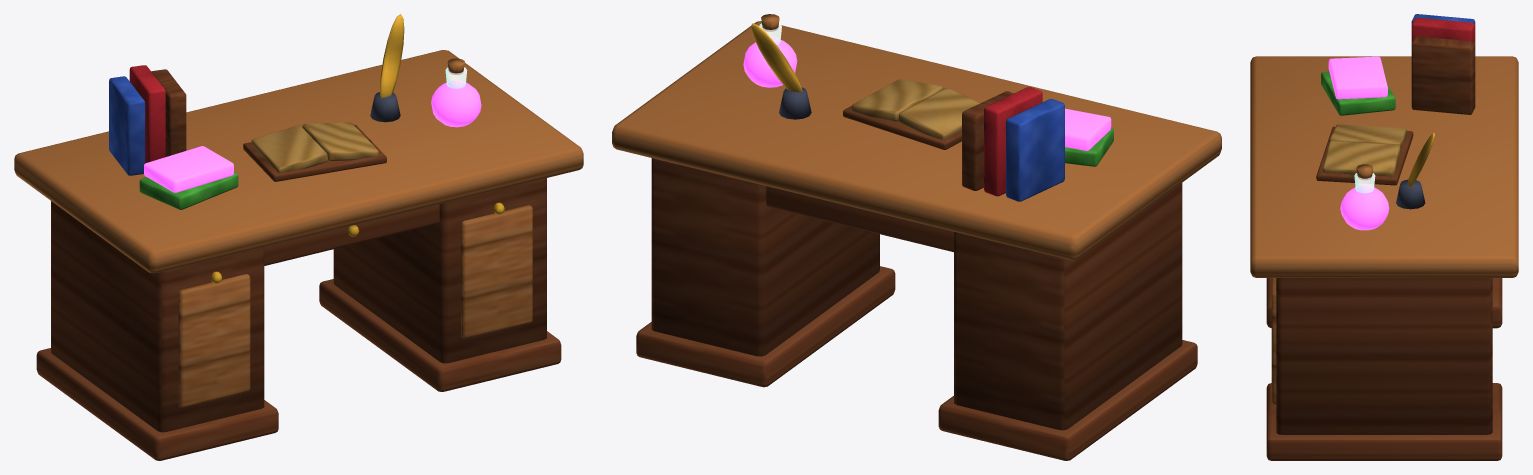
Rendered from h_prop_desk.glb.
3 renders of one model, left to right at view 1: azimuth 30°, elevation 25°; view 2: azimuth 150°, elevation 25°; view 3: azimuth 270°, elevation 25°, orthographic. The views are drawn at different scales.
Visible parts, largest first — view 1: DeskTop, DeskPedBody_-0.48, DeskPedBody_0.48, DeskPanel_-0.48, DeskPanel_0.48, DeskPedBase_-0.48, DeskPedBase_0.48, DeskDrawerMid, StandBook_0, FlatBook2, OpenPageL, StandBook_1 (+7 smaller); view 2: DeskTop, DeskPedBody_-0.48, DeskPedBody_0.48, DeskPedBase_0.48, DeskPedBase_-0.48, StandBook_0, DeskDrawerMid, StandBook_1, OpenPageL, OpenPageR, StandBook_2, FlatBook2 (+5 smaller); view 3: DeskTop, DeskPedBody_0.48, DeskPedBase_0.48, StandBook_2, FlatBook2, OpenPageR, VioletFlaskBody, OpenPageL, FlatBook1, StandBook_1, OpenCover, DeskPedBase_-0.48 (+5 smaller).
Part boxes in pixels (bbox=[...]): DeskTop: bbox=[14, 50, 583, 273]; DeskPedBody_-0.48: bbox=[51, 201, 264, 432]; DeskPedBody_0.48: bbox=[333, 178, 546, 363]; DeskPanel_-0.48: bbox=[178, 274, 250, 407]; DeskPanel_0.48: bbox=[461, 205, 532, 338]; DeskPedBase_-0.48: bbox=[36, 348, 278, 460]; DeskPedBase_0.48: bbox=[319, 279, 561, 391]; DeskDrawerMid: bbox=[264, 204, 439, 265]; StandBook_0: bbox=[109, 76, 145, 175]; FlatBook2: bbox=[144, 146, 233, 192]; OpenPageL: bbox=[251, 125, 327, 172]; StandBook_1: bbox=[129, 65, 165, 163]; DeskTop: bbox=[612, 21, 1221, 260]; DeskPedBody_-0.48: bbox=[954, 183, 1182, 430]; DeskPedBody_0.48: bbox=[651, 158, 879, 356]; DeskPedBase_0.48: bbox=[636, 266, 895, 387]; DeskPedBase_-0.48: bbox=[938, 340, 1197, 460]; StandBook_0: bbox=[1006, 99, 1064, 201]; DeskDrawerMid: bbox=[766, 186, 953, 252]; StandBook_1: bbox=[984, 87, 1042, 196]; OpenPageL: bbox=[898, 88, 979, 139]; OpenPageR: bbox=[851, 79, 943, 121]; StandBook_2: bbox=[962, 91, 1013, 190]; FlatBook2: bbox=[1065, 108, 1111, 150]; DeskTop: bbox=[1250, 56, 1518, 277]; DeskPedBody_0.48: bbox=[1276, 278, 1492, 434]; DeskPedBase_0.48: bbox=[1266, 383, 1502, 460]; StandBook_2: bbox=[1411, 36, 1475, 114]; FlatBook2: bbox=[1328, 56, 1387, 99]; OpenPageR: bbox=[1322, 141, 1400, 176]; VioletFlaskBody: bbox=[1340, 186, 1389, 230]; OpenPageL: bbox=[1329, 124, 1406, 149]; FlatBook1: bbox=[1321, 71, 1395, 115]; StandBook_1: bbox=[1411, 17, 1475, 43]; OpenCover: bbox=[1316, 126, 1413, 185]; DeskPedBase_-0.48: bbox=[1266, 278, 1502, 328].
Size of the model in its own units: 1.48 by 0.9916 by 0.82.
10 materials, 8 textured.
